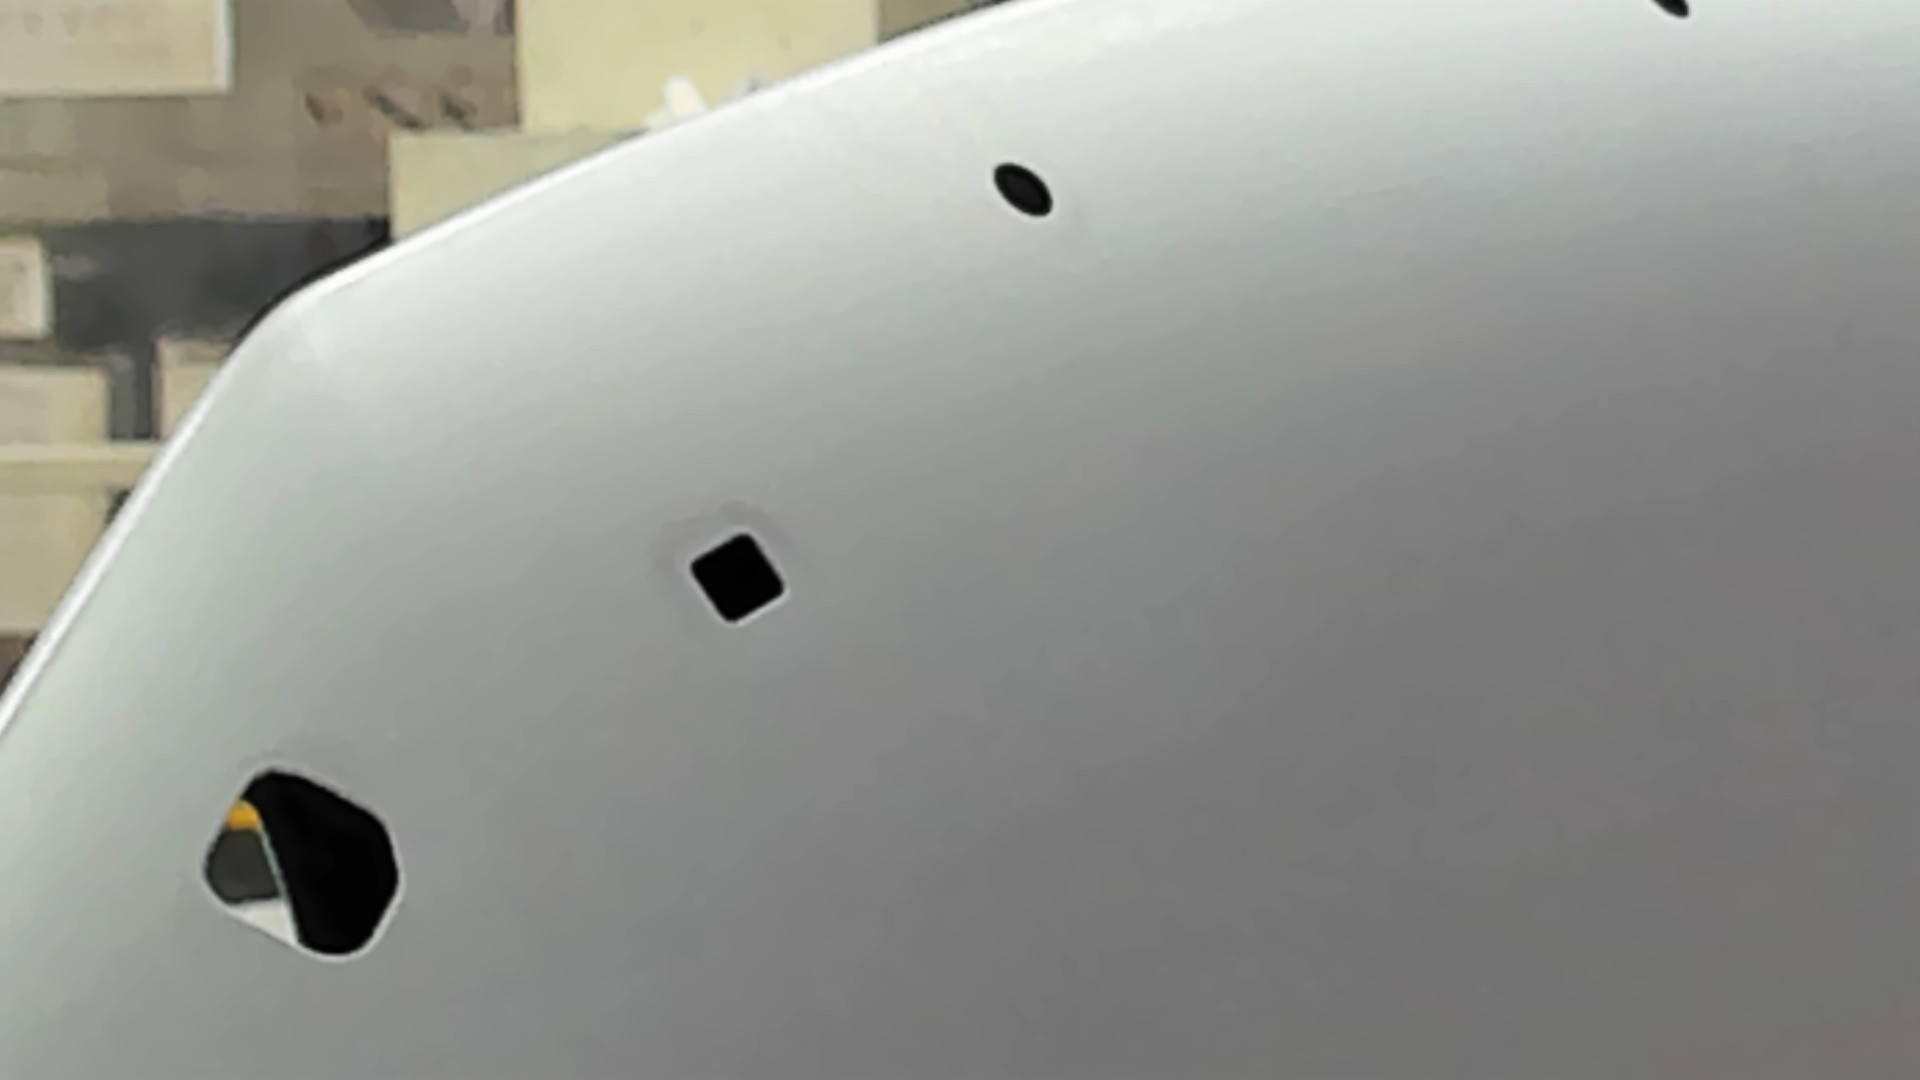chico: (993, 160, 1054, 220), (1651, 1, 1695, 20)
grande: (200, 767, 405, 964)
mediano: (684, 527, 790, 629)
